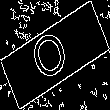O_SE: (31, 23, 79, 87)
